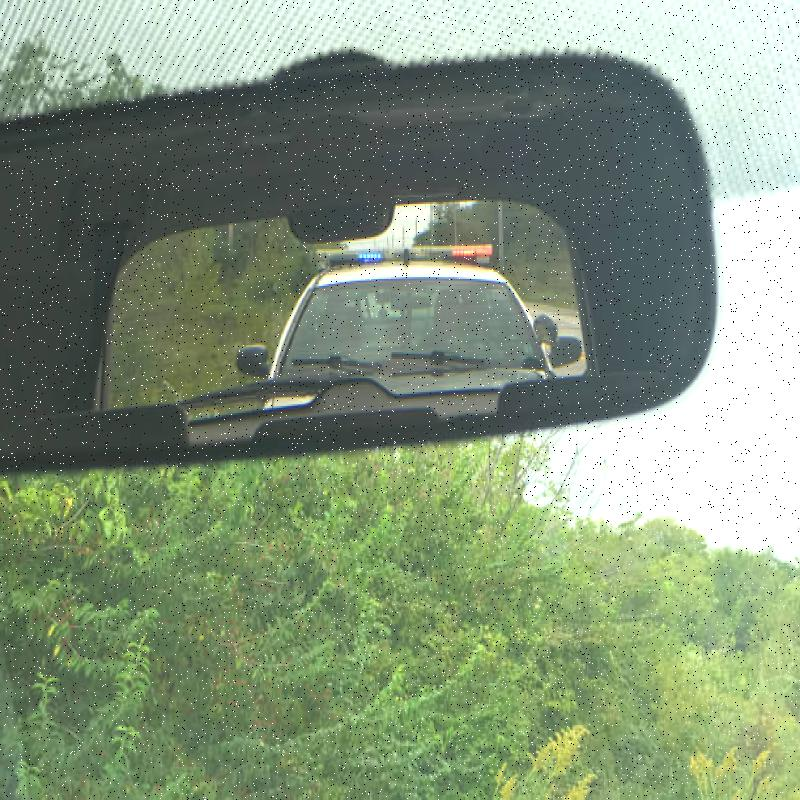AmbulanceSiren: (309, 229, 493, 276)
